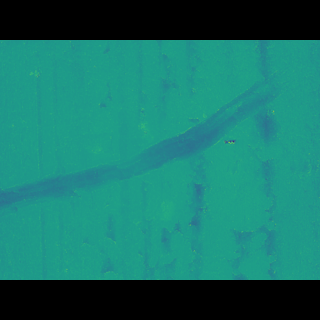Loch: (0, 82, 307, 208)
